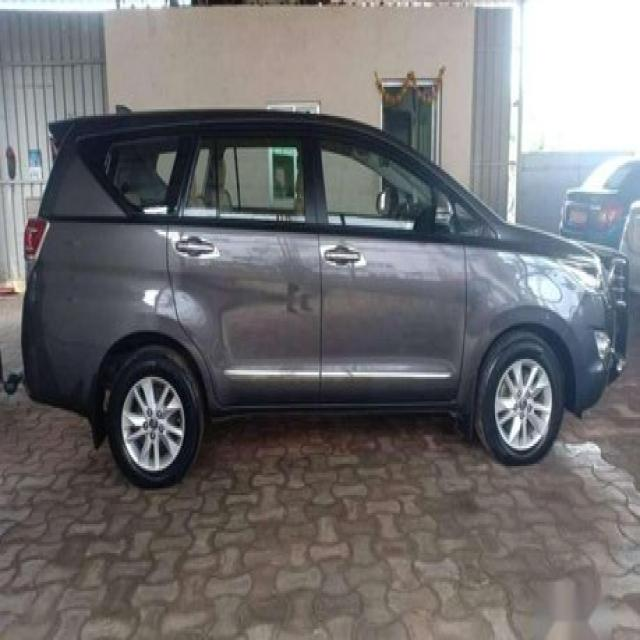light_vehicle: (19, 104, 628, 490)
